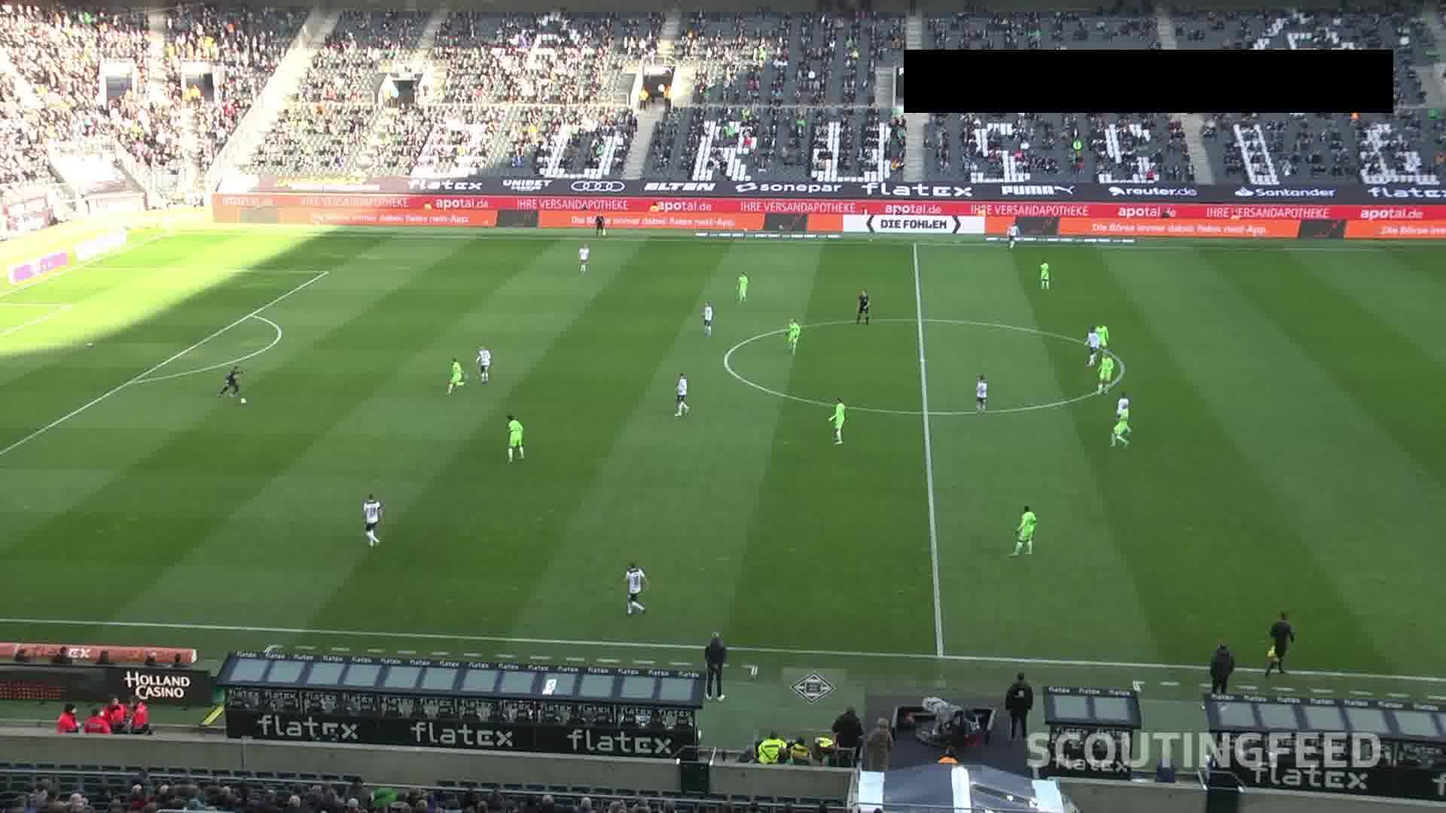ball: (237, 394, 252, 409)
coach_staff: (987, 667, 1031, 748), (1196, 645, 1234, 713), (699, 635, 728, 700)
goalkeeper: (215, 359, 240, 398)
player: (615, 560, 659, 621), (1005, 507, 1036, 567), (358, 491, 387, 547), (822, 395, 850, 447), (473, 343, 503, 386), (669, 366, 693, 419), (438, 354, 469, 395), (501, 412, 526, 462), (779, 319, 807, 359), (1028, 253, 1056, 292), (726, 271, 762, 301), (1107, 405, 1131, 448), (1113, 391, 1149, 419), (970, 373, 994, 413), (1096, 351, 1116, 394), (694, 302, 719, 335), (1093, 321, 1118, 354), (571, 242, 594, 277), (1000, 216, 1022, 251), (1081, 327, 1097, 365)
referee: (1264, 603, 1300, 680), (857, 291, 874, 322), (592, 207, 606, 241)
